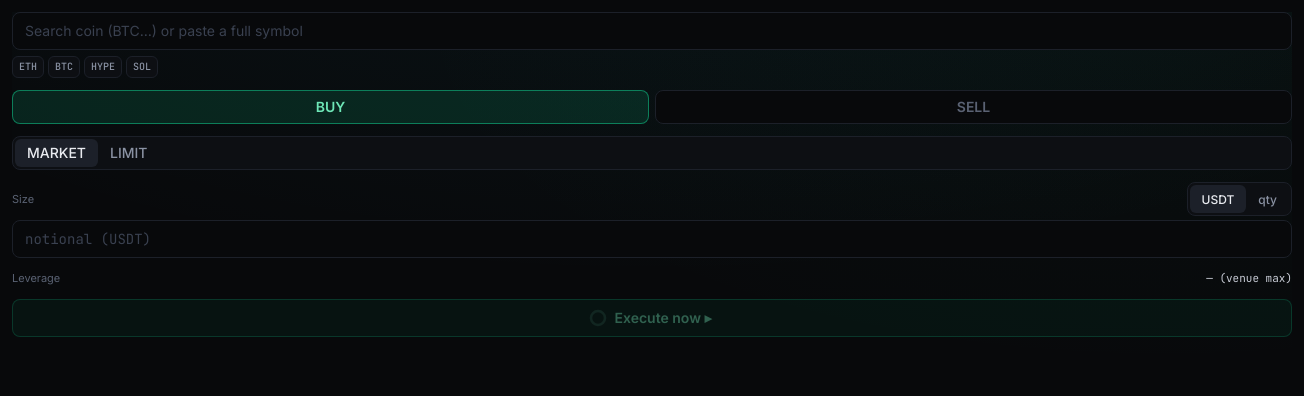
it: quick-pick coins › single mode: clicking ETH shows ETH's venue chips
Click the button "ETH" at (28, 67), box left=12, top=56, right=44, bottom=78
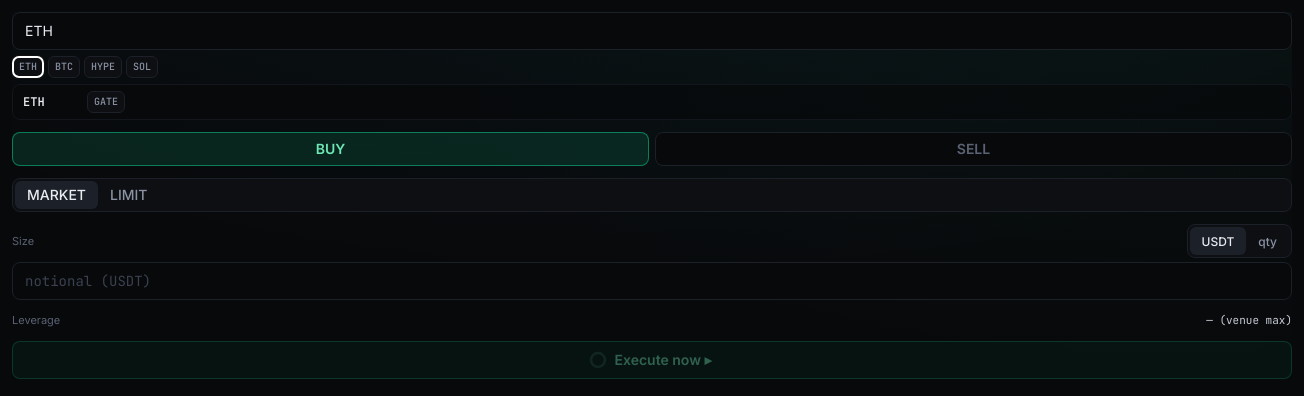
Expected: the button "GATE" is shown, left=87, top=91, right=125, bottom=113
